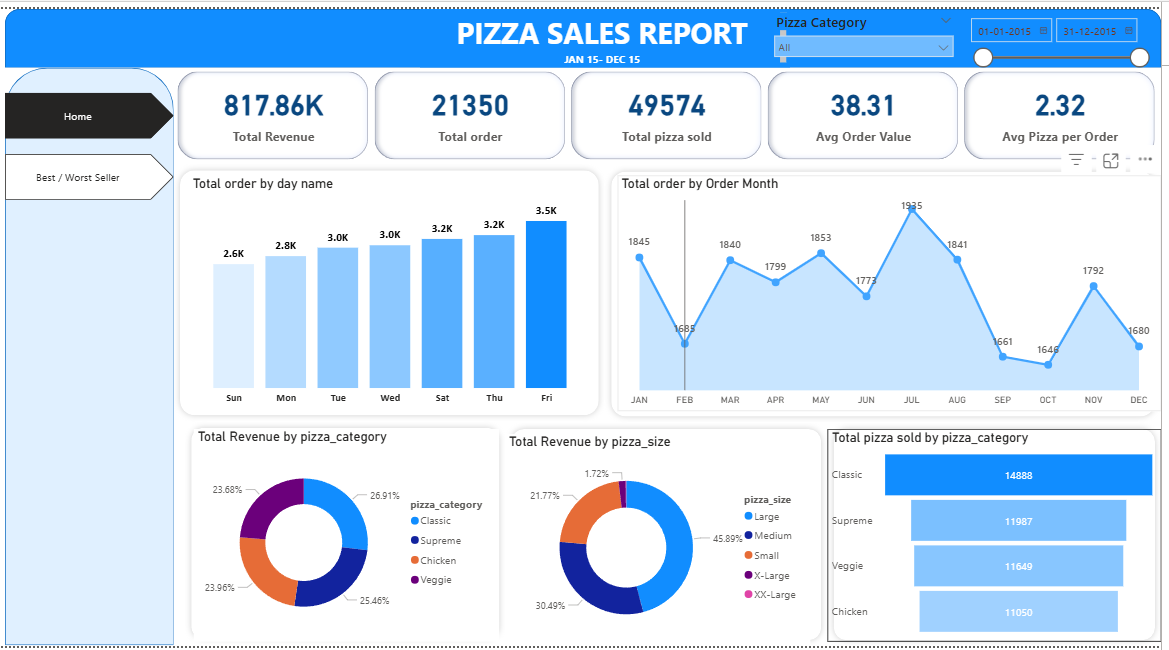

What the dashboard file says about the page in this screenshot:
{"tool":"powerbi","page":{"name":"Home","canvas":[1500,820],"ordinal":0},"visuals":[{"type":"cardVisual","fields":{"Data":["pizza_sales.Total Revenue","pizza_sales.Total order","pizza_sales.Total pizza sold","pizza_sales.Avg Order Value","pizza_sales.Avg Pizza per Order"]},"box":[230,75.6,1270.4,123.8],"z":0},{"type":"shape","box":[12.9,0,1487.5,75.6],"z":1000},{"type":"textbox","box":[546.7,0,476,75.6],"z":2000},{"type":"shape","box":[230,199.4,554.8,331.3],"z":3000},{"type":"columnChart","fields":{"Category":["pizza_sales.day name"],"Y":["pizza_sales.Total order"]},"box":[249.3,213.9,519.4,303.9],"z":4000},{"type":"shape","box":[784.7,201,715.6,331.3],"z":5000},{"type":"areaChart","fields":{"Category":["pizza_sales.Order Month"],"Y":["pizza_sales.Total order"]},"box":[800.8,213.9,699.5,303.9],"z":6000},{"type":"shape","box":[243.7,531.3,412.3,287.6],"z":7000},{"type":"shape","box":[656.1,532.3,414.9,287.8],"z":8000},{"type":"shape","box":[1071,532.3,429.4,287.8],"z":9000},{"type":"donutChart","fields":{"Category":["pizza_sales.pizza_category"],"Y":["pizza_sales.Total Revenue"]},"box":[255,539.8,392.4,273.4],"z":10000},{"type":"donutChart","fields":{"Y":["pizza_sales.Total Revenue"],"Category":["pizza_sales.pizza_size"]},"box":[655.9,546.9,392.4,273.4],"z":11000},{"type":"funnel","fields":{"Category":["pizza_sales.pizza_category"],"Y":["pizza_sales.Total pizza sold"]},"box":[1071,539.8,429.3,273.4],"z":12000},{"type":"slicer","fields":{"Values":["pizza_sales.pizza_category"]},"box":[991.7,0,250.8,75.1],"z":13000},{"type":"slicer","fields":{"Values":["pizza_sales.order_date"]},"box":[1242.5,1.4,250.8,75.1],"z":14000},{"type":"shape","box":[12.9,75.6,217.1,742.9],"z":15000},{"type":"pageNavigator","box":[12.9,186.5,217.1,59.5],"z":16000},{"type":"pageNavigator","box":[12.9,107.7,217.1,59.5],"z":17000}]}

Visuals, with their boxes on the page's 1500x820 design canvas (x1, y1, x2, y2). These are canvas units, not pixel positions in the 1169x650 screenshot, which may show the page scaled, cropped or inside an application window:
cardVisual - pizza_sales.Total Revenue x pizza_sales.Total order: (230, 76, 1500, 199)
shape: (13, 0, 1500, 76)
textbox: (547, 0, 1023, 76)
shape: (230, 199, 785, 531)
columnChart - pizza_sales.day name x pizza_sales.Total order: (249, 214, 769, 518)
shape: (785, 201, 1500, 532)
areaChart - pizza_sales.Order Month x pizza_sales.Total order: (801, 214, 1500, 518)
shape: (244, 531, 656, 819)
shape: (656, 532, 1071, 820)
shape: (1071, 532, 1500, 820)
donutChart - pizza_sales.pizza_category x pizza_sales.Total Revenue: (255, 540, 647, 813)
donutChart - pizza_sales.Total Revenue x pizza_sales.pizza_size: (656, 547, 1048, 820)
funnel - pizza_sales.pizza_category x pizza_sales.Total pizza sold: (1071, 540, 1500, 813)
slicer - pizza_sales.pizza_category: (992, 0, 1242, 75)
slicer - pizza_sales.order_date: (1242, 1, 1493, 76)
shape: (13, 76, 230, 818)
pageNavigator: (13, 186, 230, 246)
pageNavigator: (13, 108, 230, 167)
